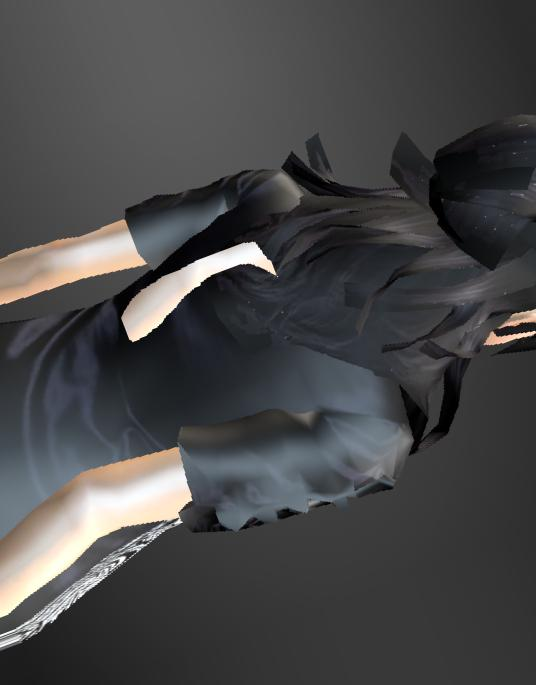clip: (219, 239, 284, 278)
